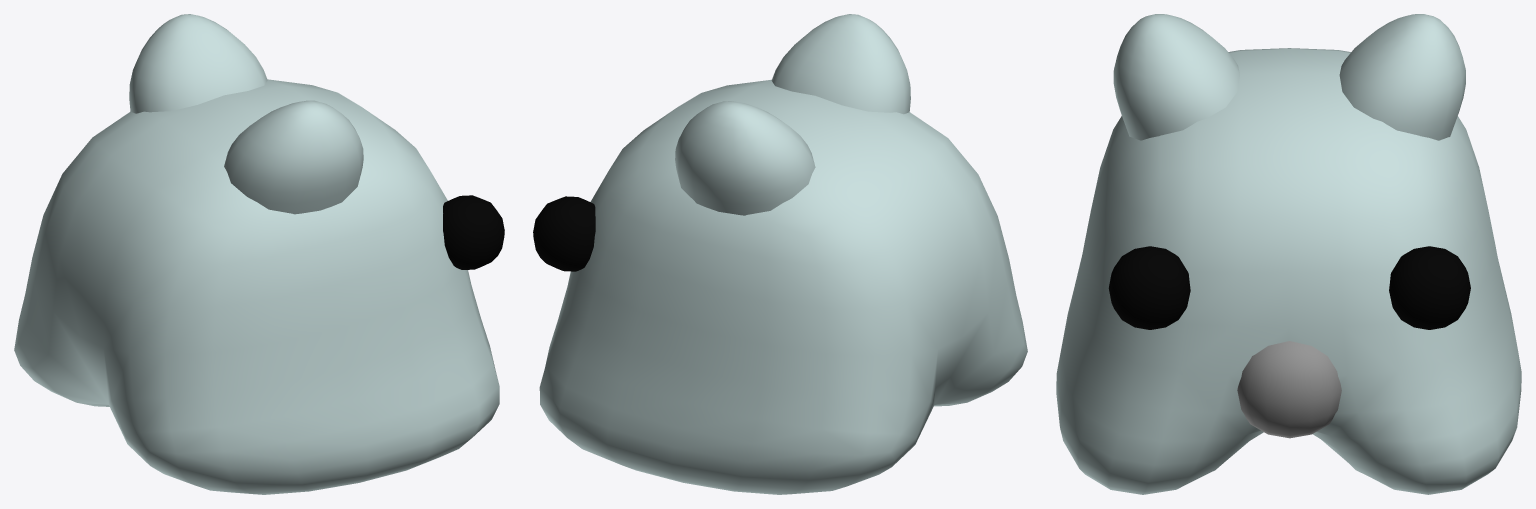
The model's file is Burrow Head.fbx.
3 views of the same model, side by side, from view 1: azimuth 30°, elevation 25°; view 2: azimuth 150°, elevation 25°; view 3: azimuth 270°, elevation 25° (orthographic). The views are drawn at different scales.
Visible parts, largest first — view 1: Cube.002; view 2: Cube.002; view 3: Cube.002.
Boxes of the visible parts, left/top/right/bottom form: Cube.002: left=14, top=14, right=504, bottom=494; Cube.002: left=533, top=14, right=1027, bottom=494; Cube.002: left=1056, top=14, right=1521, bottom=494.
Size of the model in its own units: 234 by 221 by 227.
